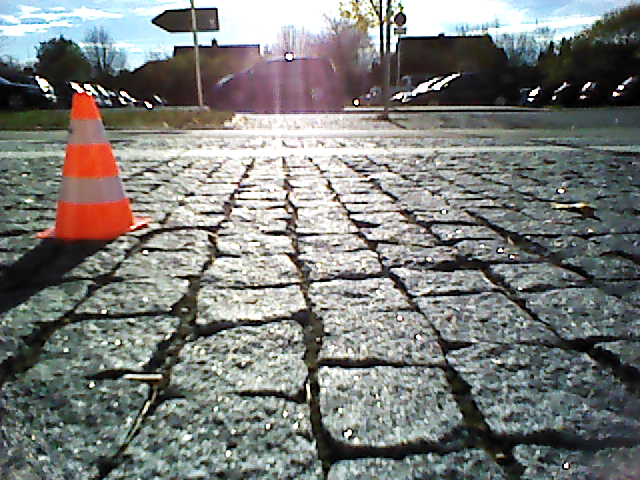orangeconesmall: (47, 96, 146, 240)
